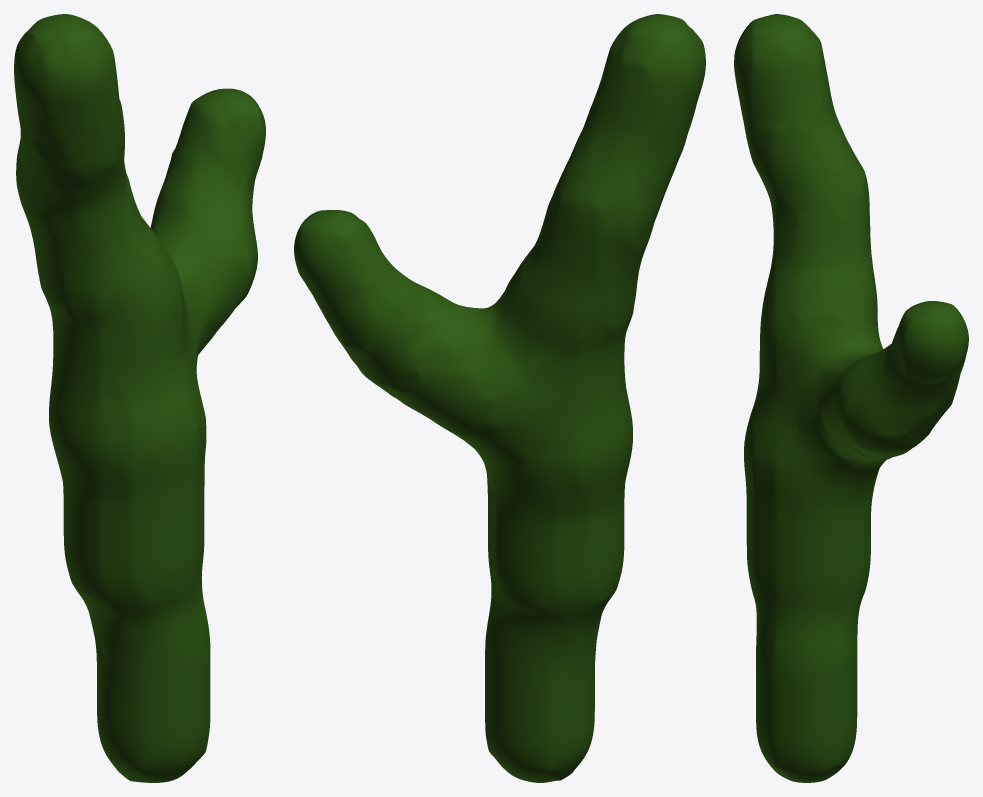
The model's file is Cactus_1.fbx.
3 renders of one model, left to right at view 1: azimuth 30°, elevation 25°; view 2: azimuth 150°, elevation 25°; view 3: azimuth 270°, elevation 25°, orthographic. The views are drawn at different scales.
Parts seen in each view (by area): view 1: Mball.007; view 2: Mball.007; view 3: Mball.007.
Boxes of the visible parts, x1=… form: Mball.007: x1=14, y1=14, x2=265, y2=782; Mball.007: x1=294, y1=14, x2=705, y2=782; Mball.007: x1=734, y1=14, x2=968, y2=782.
Bounding box in the file's own units: 650 × 1519 × 454.
